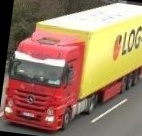truck: (1, 0, 142, 136)
